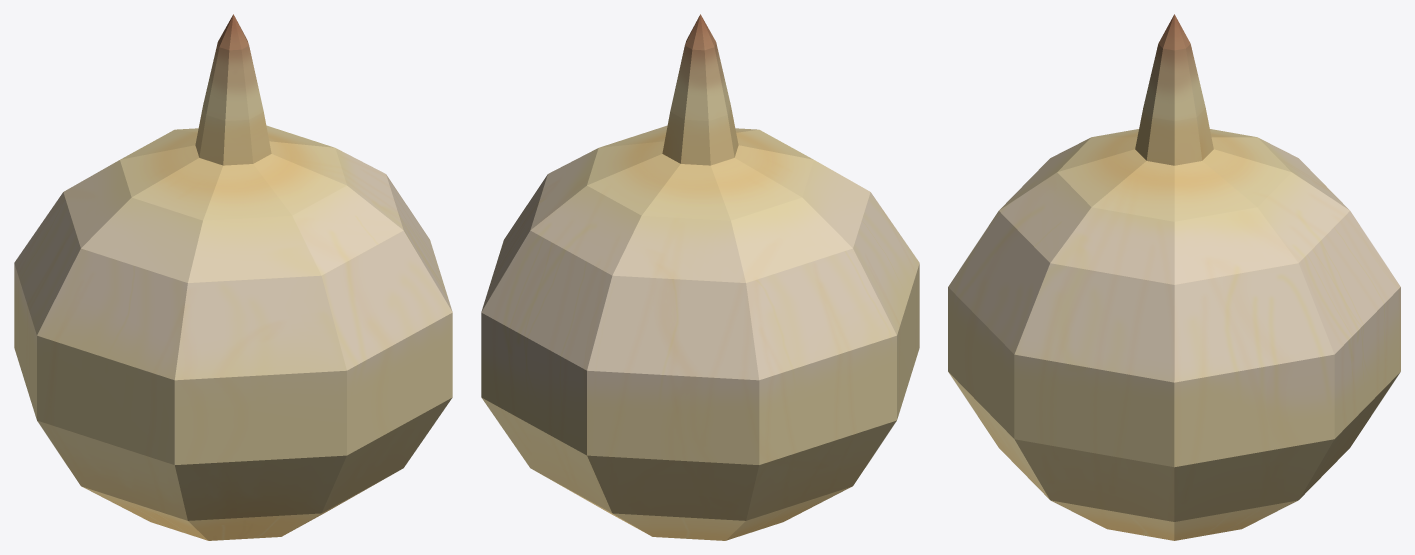
The model's file is Onion.fbx.
The picture shows the model from 3 angles, left to right: view 1: azimuth 30°, elevation 25°; view 2: azimuth 150°, elevation 25°; view 3: azimuth 270°, elevation 25°; orthographic projection.
Parts seen in each view (by area): view 1: Onion; view 2: Onion; view 3: Onion.
Part boxes in pixels (<box>): Onion: <box>14,14,452,540</box>; Onion: <box>481,14,919,540</box>; Onion: <box>948,14,1400,540</box>.
Size of the model in its own units: 206 by 250 by 206.
Materials: 1 (1 with a texture image).
